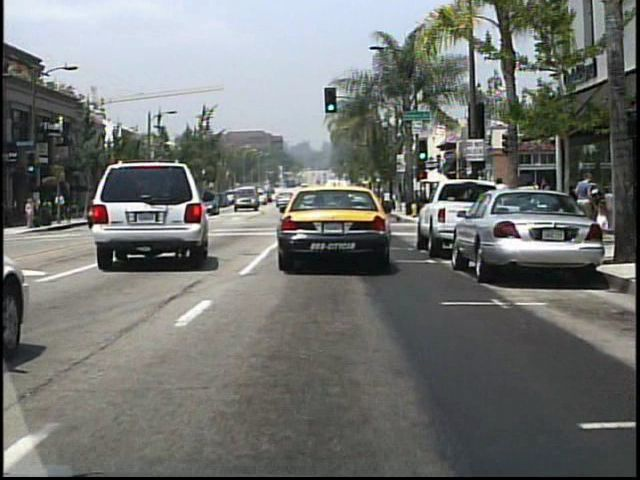person: (575, 171, 596, 234), (537, 175, 558, 237), (593, 194, 611, 239), (25, 195, 38, 231), (54, 190, 67, 222)
